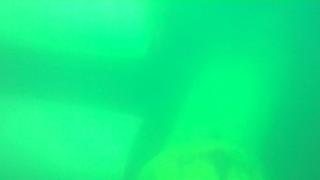pipe: (140, 21, 294, 179), (1, 96, 144, 180), (1, 1, 159, 60)
